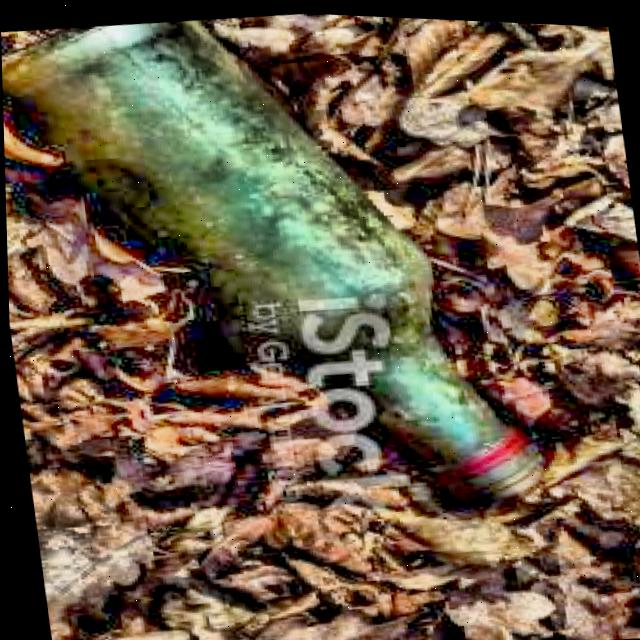glass: (1, 18, 539, 497)
